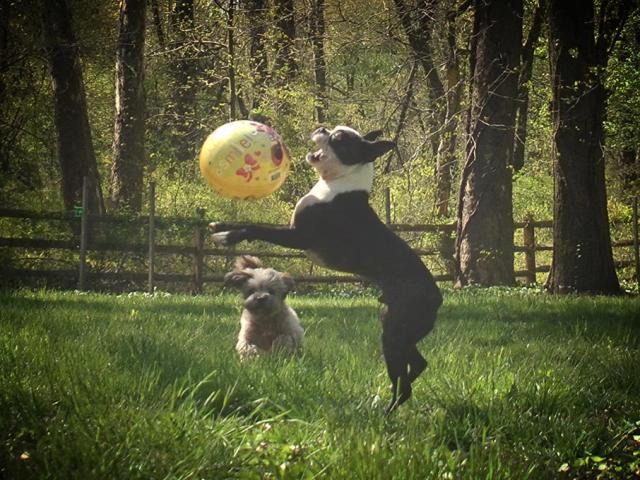Dog: (208, 122, 447, 418), (226, 255, 302, 353)
